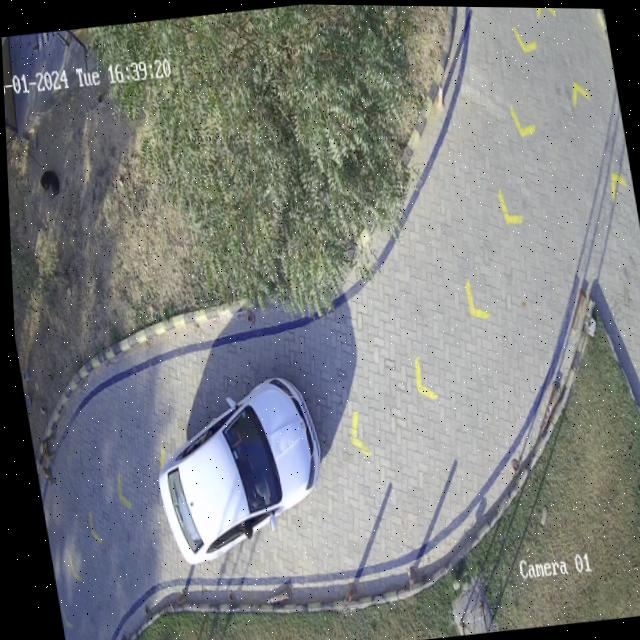car: (154, 377, 316, 565)
